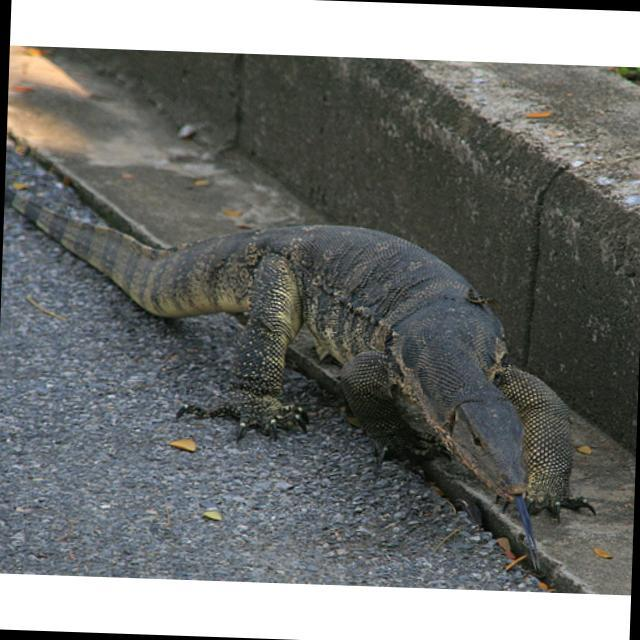KomodoDragon: (0, 182, 601, 566)
